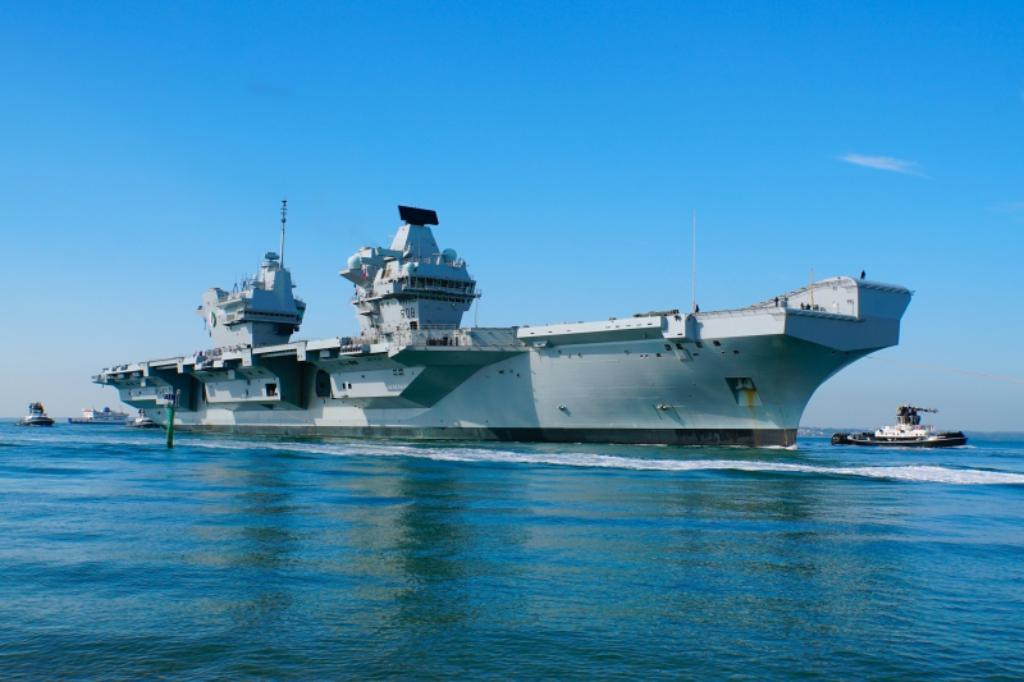Warship: (90, 196, 914, 452)
